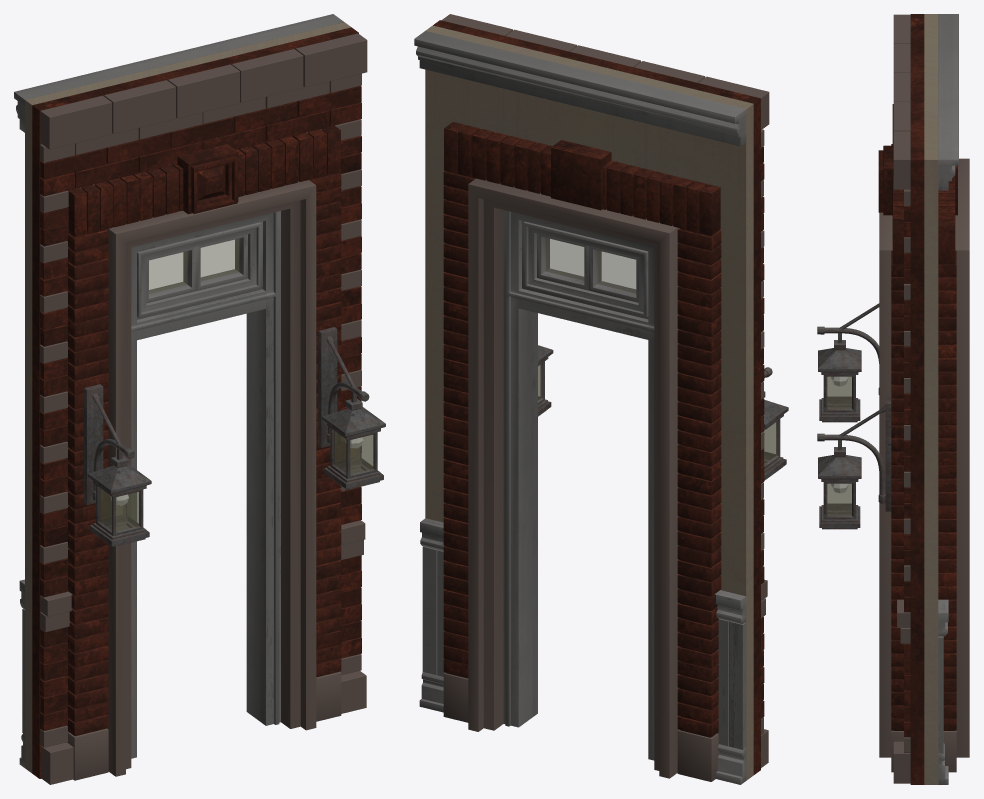
File: SK4 DOOR 1.fbx
3 views of the same model, side by side, from view 1: azimuth 30°, elevation 25°; view 2: azimuth 150°, elevation 25°; view 3: azimuth 270°, elevation 25° (orthographic). The views are drawn at different scales.
Parts seen in each view (by area): view 1: SK4 DOOR 1.002; view 2: SK4 DOOR 1.002; view 3: SK4 DOOR 1.002.
Part boxes in pixels (left/top/right/bottom): SK4 DOOR 1.002: left=14, top=14, right=385, bottom=784; SK4 DOOR 1.002: left=414, top=14, right=788, bottom=784; SK4 DOOR 1.002: left=817, top=14, right=969, bottom=784.
Size of the model in its own units: 200 by 400 by 88.27.
